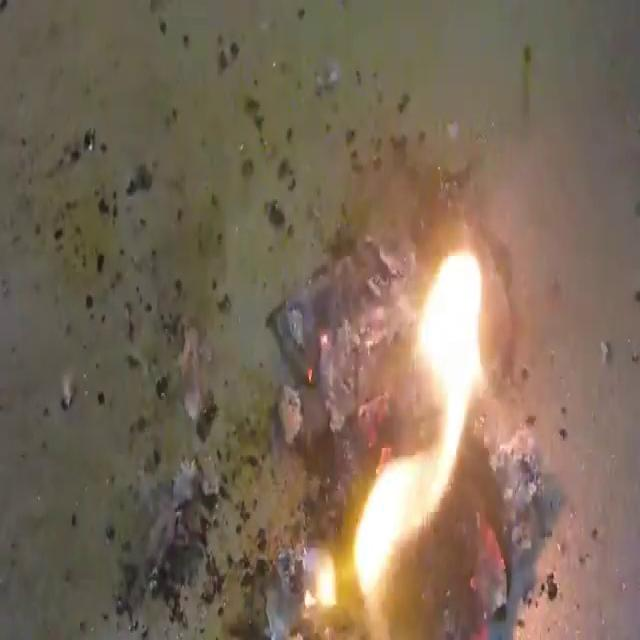Fire: (235, 153, 564, 640)
